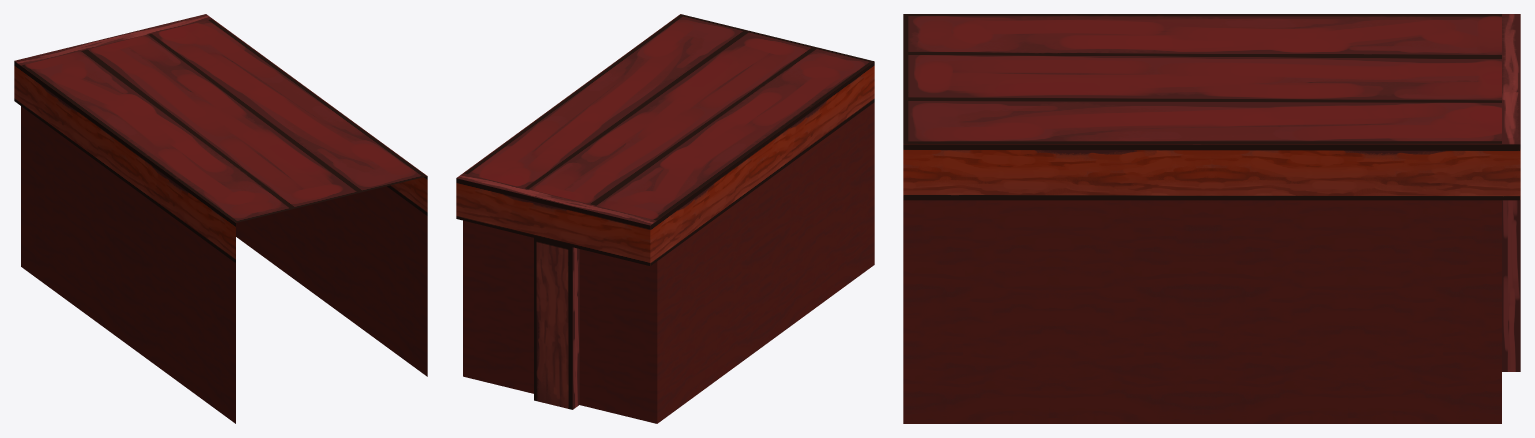
The model's file is lvl1_groundTop.fbx.
3 renders of one model, left to right at view 1: azimuth 30°, elevation 25°; view 2: azimuth 150°, elevation 25°; view 3: azimuth 270°, elevation 25°, orthographic. The views are drawn at different scales.
Parts seen in each view (by area): view 1: groundTop_lvl1; view 2: groundTop_lvl1; view 3: groundTop_lvl1.
Part boxes in pixels (x1,y1,x2,y2): groundTop_lvl1: (14, 14, 427, 423); groundTop_lvl1: (456, 14, 874, 423); groundTop_lvl1: (903, 14, 1520, 423).
Bounding box in the file's own units: 100 × 100 × 200.
